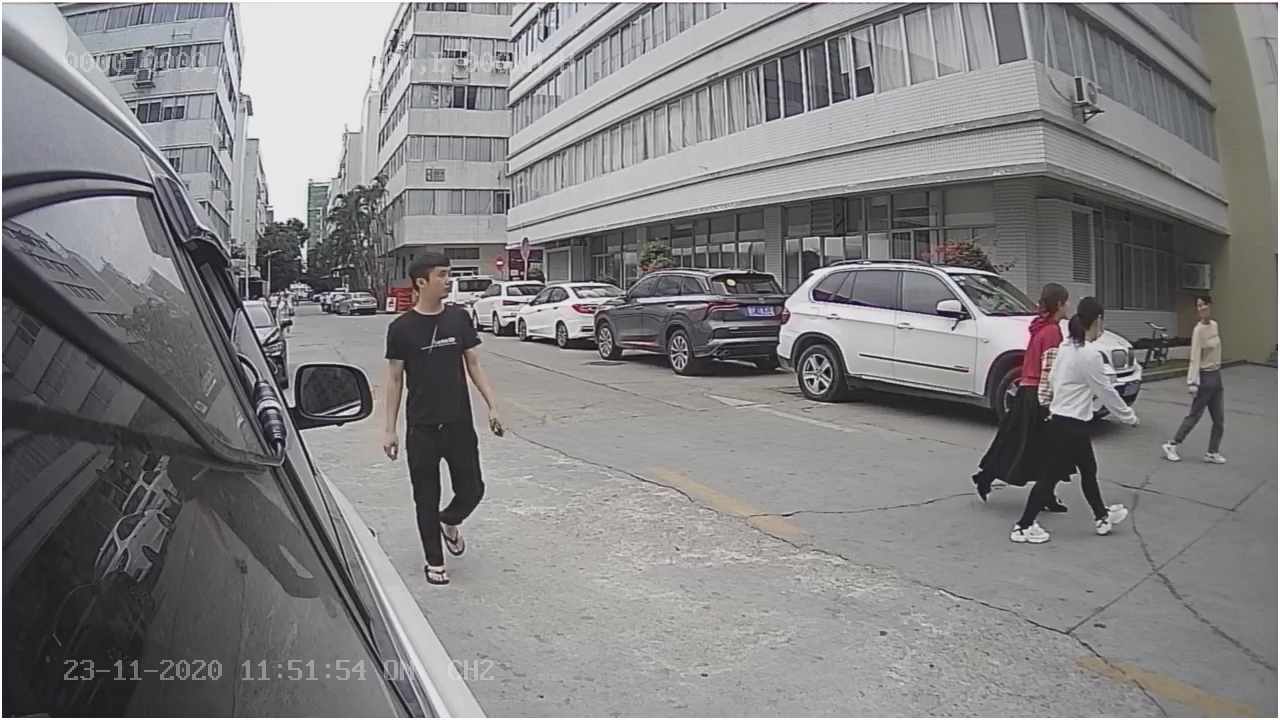person: (377, 237, 520, 580), (1009, 287, 1129, 549), (1161, 281, 1226, 467)
